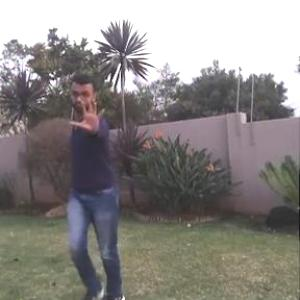follow_hand: (68, 92, 109, 136)
